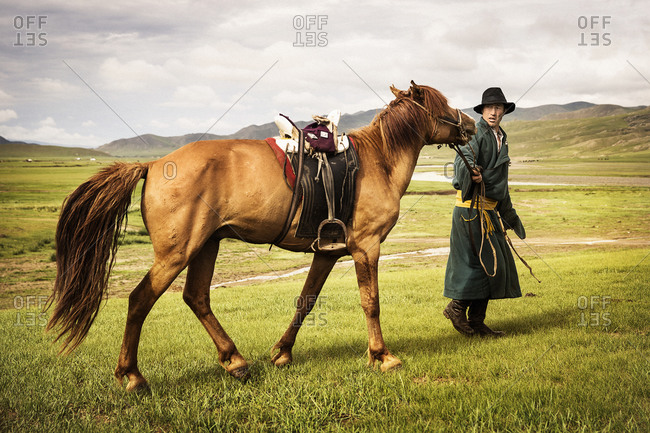Horse: (52, 83, 477, 401)
Person: (451, 84, 542, 332)
